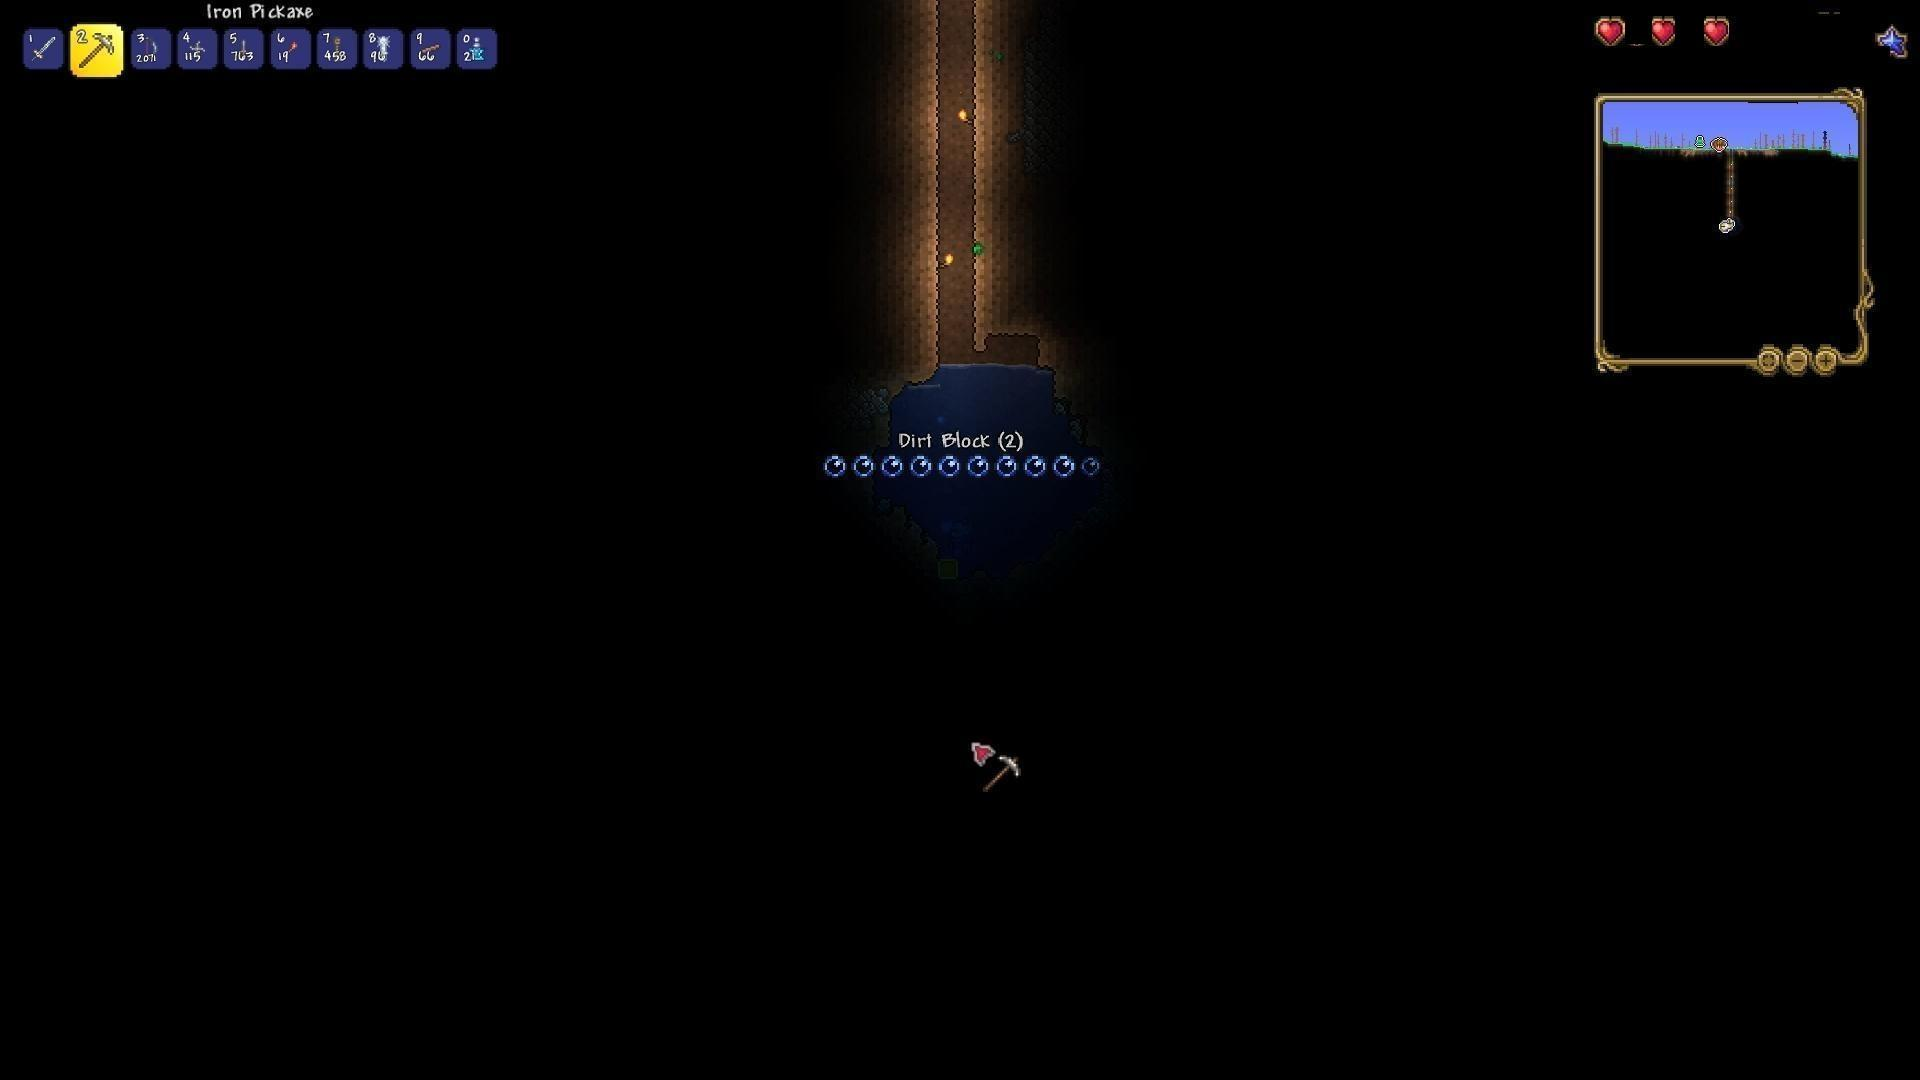dirt: (919, 3, 947, 380), (967, 0, 993, 367)
heart: (1702, 17, 1733, 51), (1593, 16, 1626, 46), (1650, 16, 1676, 49)
